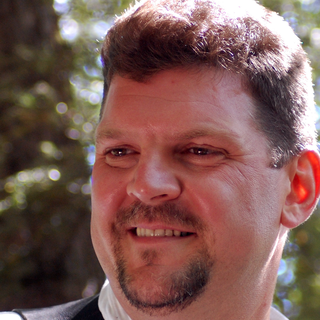eye: (172, 138, 230, 167), (94, 140, 144, 166)
